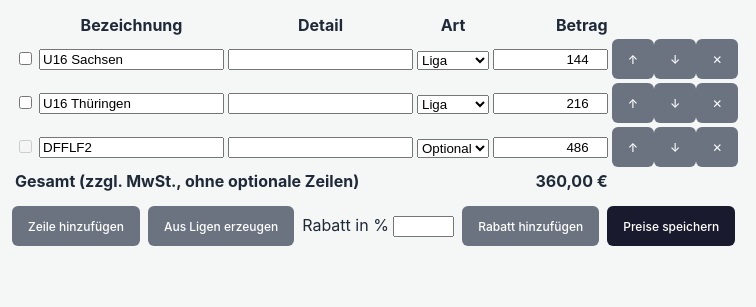
Test: OfferLinesEditor › keeps an unsaved added row when the lines prop is replaced by a new-but-equal array
Click the button "Zeile hinzufügen". click: x=76, y=226
box: [12, 206, 140, 246]
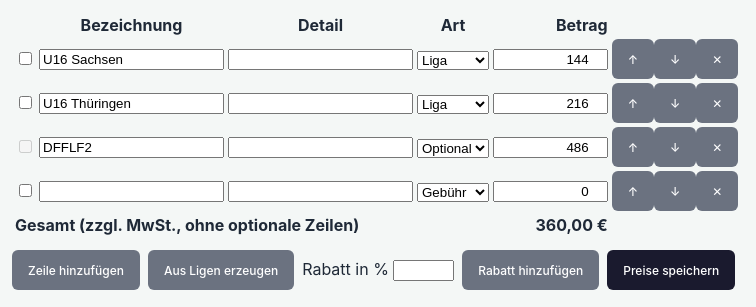
Check: the number of rows with test id "offer-line-row" is 4, box [14, 38, 739, 80]; [14, 82, 739, 124]; [14, 126, 739, 168]; [14, 170, 739, 212]
